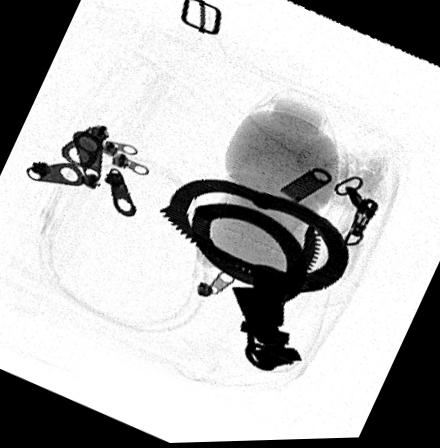HandCuffs: (155, 179, 351, 380)
